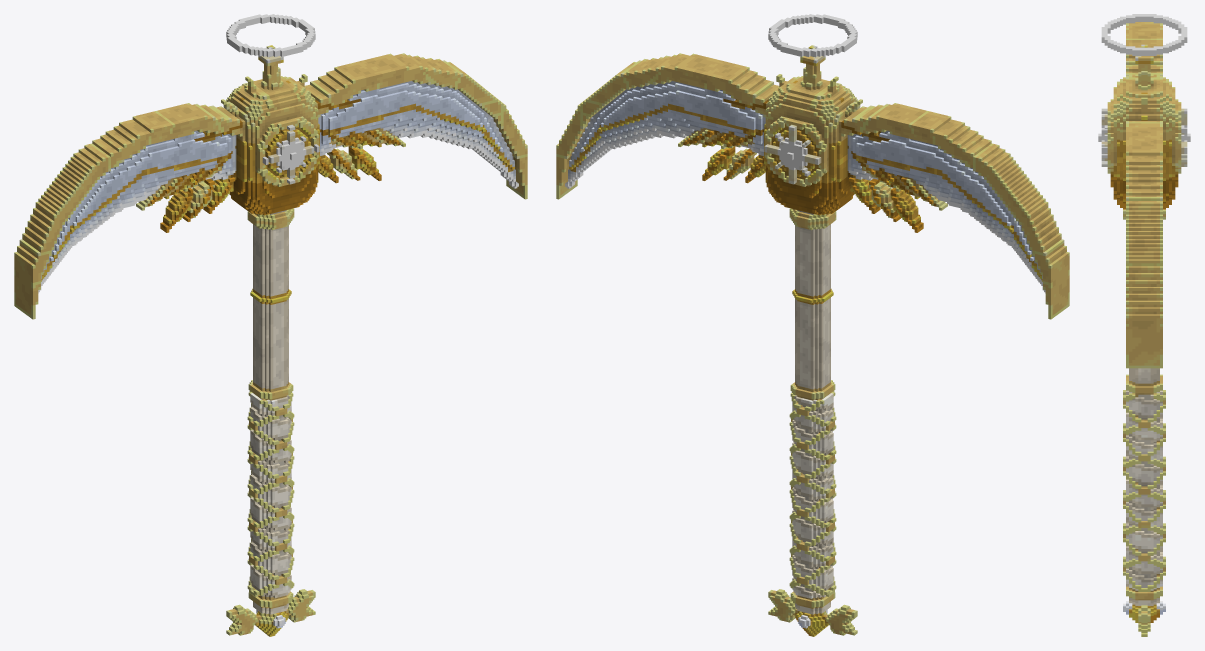
Rendered from PiocheCeleste.fbx.
3 renders of one model, left to right at view 1: azimuth 30°, elevation 25°; view 2: azimuth 150°, elevation 25°; view 3: azimuth 270°, elevation 25°, orthographic.
Visible parts, largest first — view 1: PiocheCeleste_Tete_Ora, PiocheCeleste_Tete_Cristal, PiocheCeleste_Tete_Orb, PiocheCeleste_Manche_Or, PiocheCeleste_Manche_Ivoire, PiocheCeleste_Manche_Cuir, PiocheCeleste_Tete_Lueur; view 2: PiocheCeleste_Tete_Ora, PiocheCeleste_Tete_Cristal, PiocheCeleste_Tete_Orb, PiocheCeleste_Manche_Or, PiocheCeleste_Manche_Ivoire, PiocheCeleste_Manche_Cuir, PiocheCeleste_Tete_Lueur; view 3: PiocheCeleste_Tete_Orb, PiocheCeleste_Manche_Or, PiocheCeleste_Manche_Cuir, PiocheCeleste_Tete_Ora, PiocheCeleste_Tete_Lueur, PiocheCeleste_Manche_Ivoire, PiocheCeleste_Manche_Gemme.
Part boxes in pixels (box(x1,y1,x2,y2)): PiocheCeleste_Tete_Ora: box(14, 46, 299, 319); PiocheCeleste_Tete_Cristal: box(38, 81, 518, 293); PiocheCeleste_Tete_Orb: box(257, 45, 527, 211); PiocheCeleste_Manche_Or: box(226, 208, 315, 636); PiocheCeleste_Manche_Ivoire: box(253, 210, 288, 614); PiocheCeleste_Manche_Cuir: box(250, 393, 291, 598); PiocheCeleste_Tete_Lueur: box(226, 14, 315, 170); PiocheCeleste_Tete_Ora: box(786, 46, 1069, 319); PiocheCeleste_Tete_Cristal: box(565, 81, 1045, 293); PiocheCeleste_Tete_Orb: box(556, 45, 829, 210); PiocheCeleste_Manche_Or: box(768, 208, 857, 636); PiocheCeleste_Manche_Ivoire: box(795, 210, 830, 614); PiocheCeleste_Manche_Cuir: box(792, 393, 833, 598); PiocheCeleste_Tete_Lueur: box(768, 14, 857, 170); PiocheCeleste_Tete_Orb: box(1101, 46, 1187, 368); PiocheCeleste_Manche_Or: box(1123, 209, 1165, 636); PiocheCeleste_Manche_Cuir: box(1126, 390, 1162, 590); PiocheCeleste_Tete_Ora: box(1104, 22, 1187, 162); PiocheCeleste_Tete_Lueur: box(1098, 14, 1190, 141); PiocheCeleste_Manche_Ivoire: box(1129, 368, 1159, 605); PiocheCeleste_Manche_Gemme: box(1123, 601, 1165, 614).
Size of the model in its own units: 7.36 by 8.56 by 1.2.
